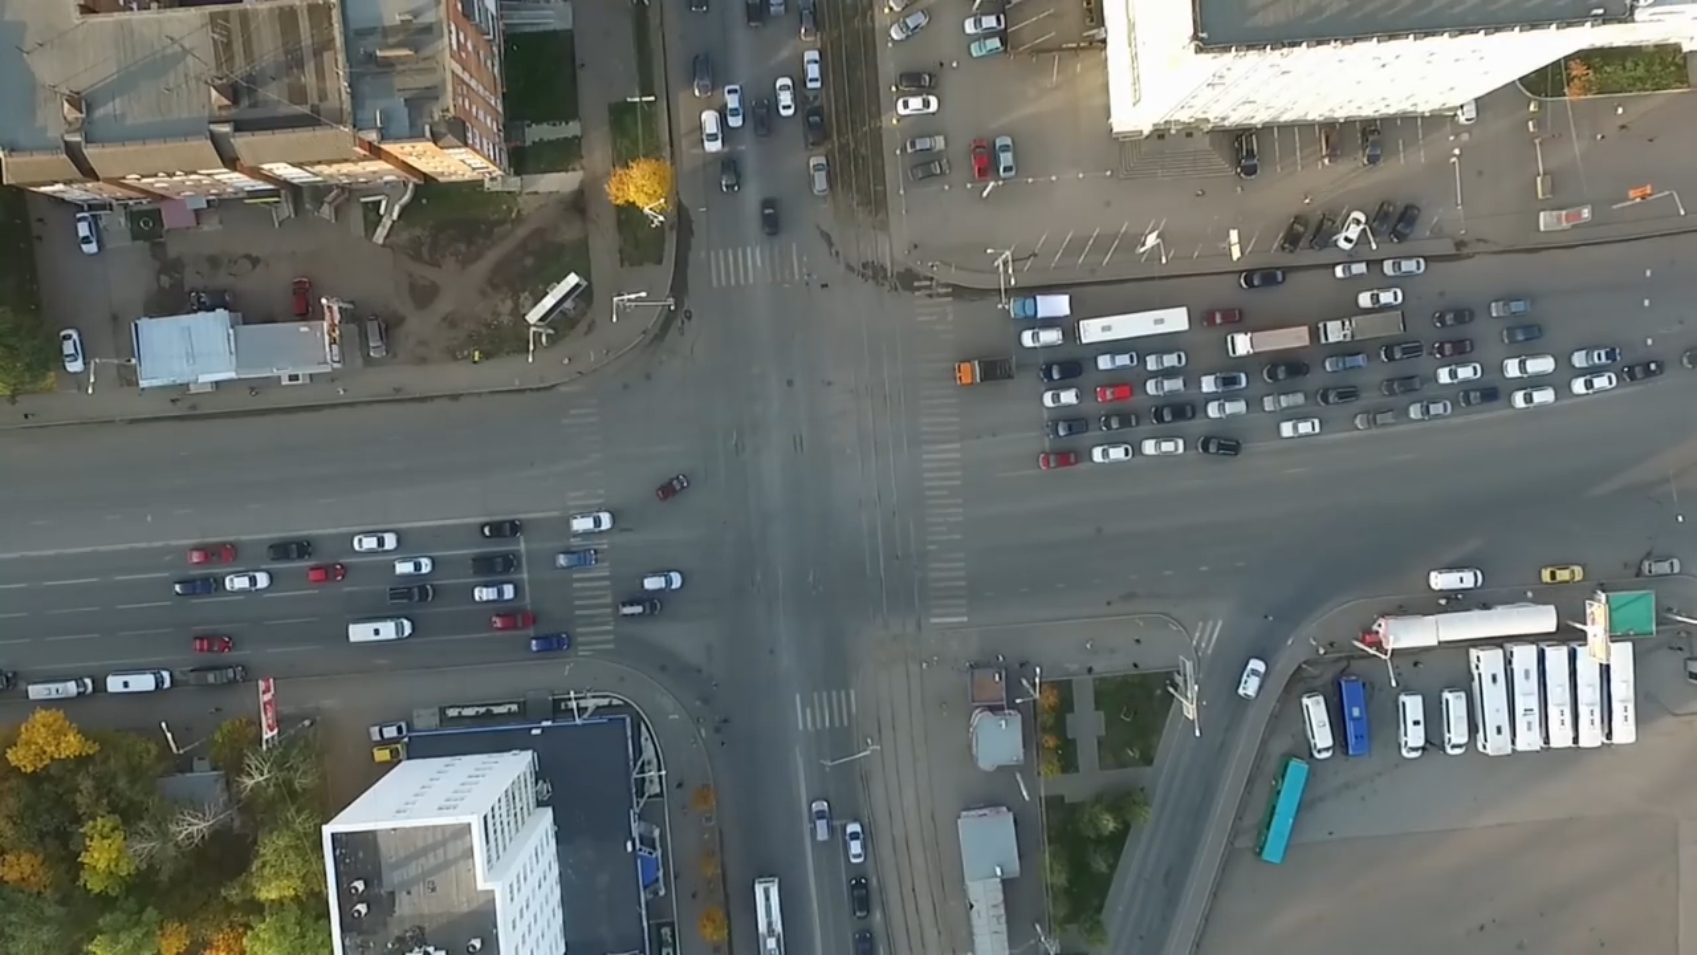car: (1467, 644, 1514, 757), (1068, 306, 1197, 342), (1504, 640, 1544, 752), (1536, 642, 1575, 747), (1599, 645, 1639, 745), (1317, 311, 1411, 345), (1571, 641, 1601, 745), (1339, 674, 1373, 759), (751, 873, 783, 955), (1225, 326, 1311, 357), (1395, 689, 1431, 761), (1296, 694, 1338, 756), (103, 666, 176, 694), (1005, 292, 1075, 319), (1441, 686, 1469, 754), (343, 617, 414, 644), (953, 354, 1018, 384), (883, 9, 936, 42), (1425, 566, 1485, 594), (1500, 351, 1558, 379), (184, 662, 245, 689), (1233, 131, 1266, 180), (24, 679, 100, 700), (1235, 656, 1270, 701), (697, 106, 728, 155), (183, 539, 238, 567), (1319, 125, 1349, 174), (265, 538, 317, 564), (1379, 252, 1429, 280), (383, 580, 434, 608), (1013, 325, 1066, 351), (1508, 384, 1559, 410), (1569, 344, 1622, 370), (1570, 370, 1621, 396), (362, 315, 392, 361), (1498, 319, 1545, 347), (350, 529, 401, 555), (1538, 560, 1590, 585), (56, 330, 86, 373), (690, 51, 718, 98), (1360, 125, 1389, 169), (1335, 208, 1365, 250), (1260, 389, 1311, 414), (568, 511, 617, 536), (773, 73, 800, 120), (800, 103, 828, 147), (73, 212, 101, 255), (1323, 351, 1372, 375), (962, 10, 1011, 35), (1235, 266, 1287, 289), (1038, 357, 1085, 382), (1274, 415, 1325, 438), (476, 517, 522, 542), (1199, 431, 1244, 458), (1281, 212, 1309, 254), (1090, 442, 1138, 466), (1407, 395, 1455, 420), (1149, 401, 1199, 424), (721, 80, 745, 131), (749, 93, 775, 139), (1393, 201, 1420, 244), (756, 198, 782, 243), (389, 554, 435, 578), (1435, 361, 1485, 384), (364, 719, 414, 742), (1356, 287, 1406, 309), (969, 136, 994, 180), (1093, 349, 1140, 372), (174, 573, 220, 596), (224, 570, 270, 594), (895, 69, 939, 93), (1034, 449, 1085, 470), (1090, 380, 1135, 403), (1200, 304, 1248, 326), (1140, 435, 1188, 457), (966, 35, 1009, 59), (1197, 374, 1256, 392), (895, 93, 944, 114), (490, 608, 535, 630), (808, 153, 830, 198), (1368, 197, 1392, 240), (1432, 335, 1476, 358), (555, 547, 598, 570), (641, 570, 684, 594), (1378, 340, 1425, 361), (1378, 375, 1425, 396), (1490, 296, 1530, 321), (656, 471, 688, 503), (1263, 360, 1310, 381), (1353, 408, 1400, 429), (464, 583, 510, 604), (810, 796, 831, 843), (801, 51, 825, 91), (1043, 385, 1080, 410), (474, 553, 517, 575), (851, 876, 873, 919), (191, 632, 234, 654), (1140, 375, 1188, 395), (303, 562, 341, 587), (293, 275, 314, 319), (1431, 308, 1476, 329), (1097, 412, 1143, 431), (1204, 399, 1251, 419), (1456, 387, 1502, 407), (1619, 360, 1666, 380), (1639, 556, 1682, 577), (1314, 210, 1336, 251), (909, 159, 955, 178), (1044, 417, 1090, 437), (997, 135, 1018, 177), (1318, 384, 1360, 405), (369, 744, 411, 765), (1145, 350, 1189, 370), (902, 134, 948, 153), (618, 599, 664, 617), (529, 633, 569, 653), (721, 155, 741, 195), (1330, 260, 1369, 279), (798, 8, 817, 45), (846, 822, 862, 862), (853, 929, 876, 955), (1458, 99, 1478, 125), (747, 1, 763, 27), (689, 1, 709, 17)
